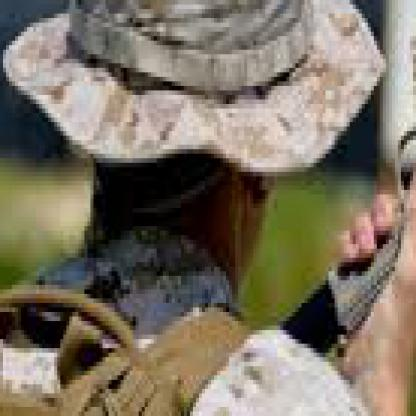gun: (326, 0, 413, 380)
